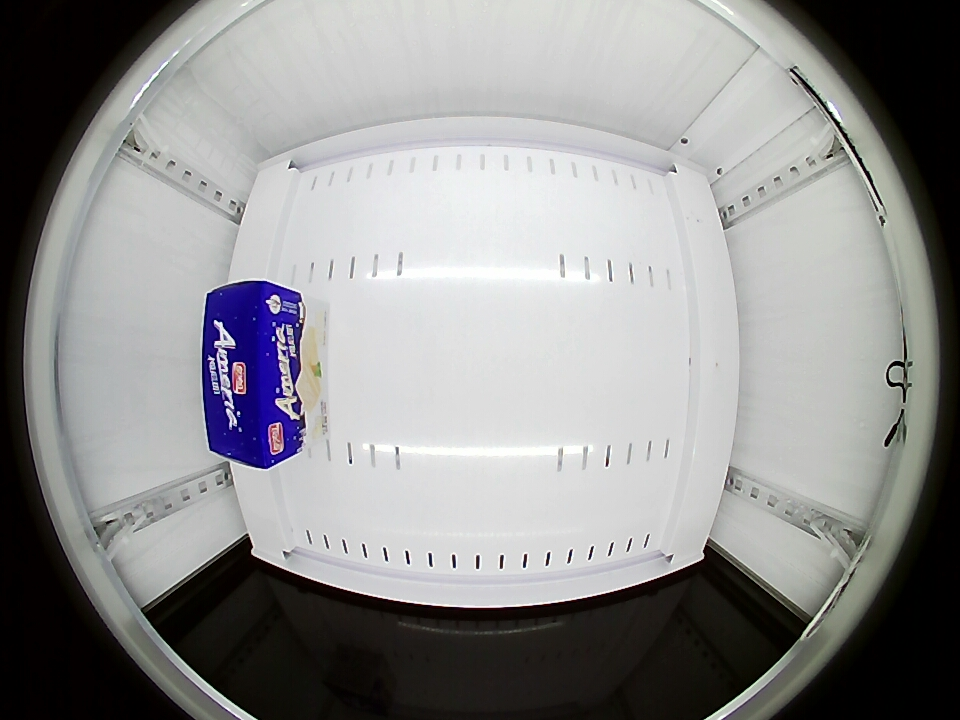meiniye: (202, 278, 309, 472)
